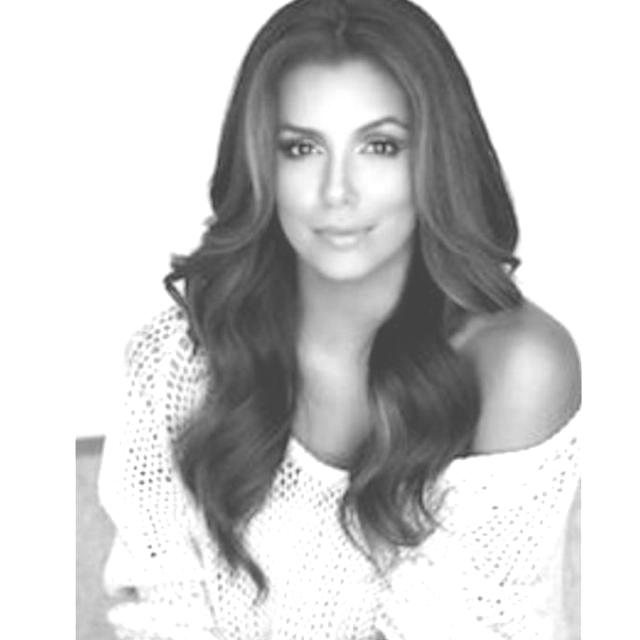real: (248, 36, 434, 292)
